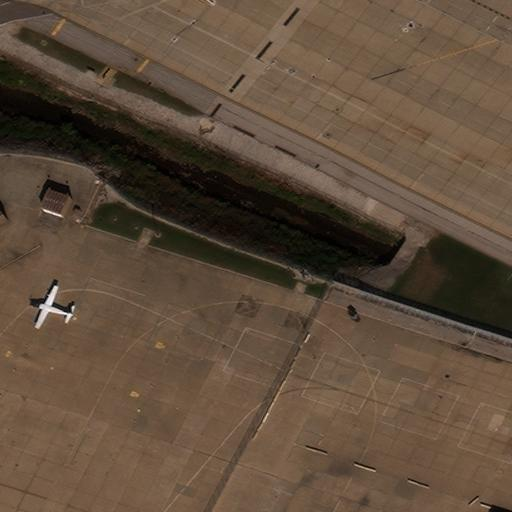Medium Civil Transport: (33, 285, 72, 327)
